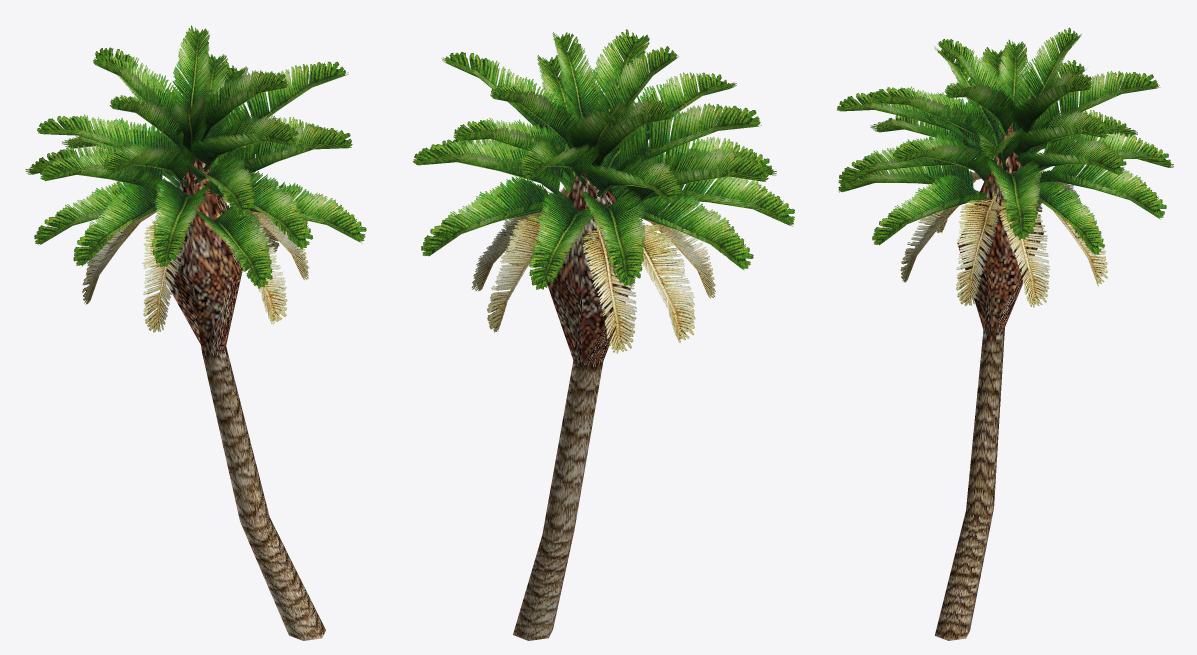
Rendered from tropic_palm_v3.glb.
3 renders of one model, left to right at view 1: azimuth 30°, elevation 25°; view 2: azimuth 150°, elevation 25°; view 3: azimuth 270°, elevation 25°, orthographic. The views are drawn at different scales.
Parts seen in each view (by area): view 1: tree_cretan_date_palm_07; view 2: tree_cretan_date_palm_07; view 3: tree_cretan_date_palm_07.
Part boxes in pixels (x1,y1,x2,y2): tree_cretan_date_palm_07: (25,25,366,640); tree_cretan_date_palm_07: (413,29,794,640); tree_cretan_date_palm_07: (837,27,1173,640).
Size of the model in its own units: 9.14 by 15.91 by 9.21.
1 material, 1 textured.
